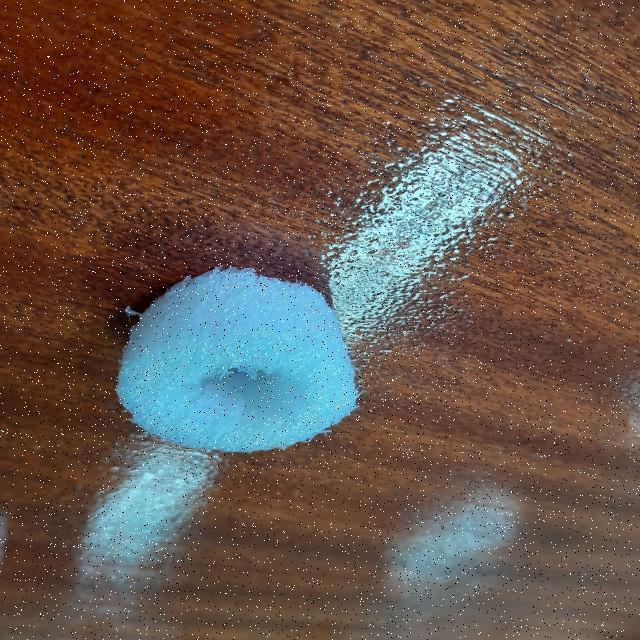wheel: (110, 274, 363, 454)
